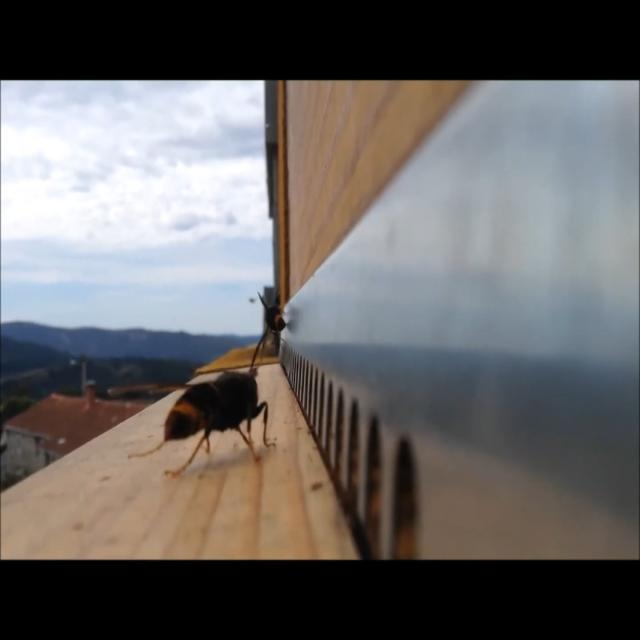Hornets: (105, 363, 276, 480), (250, 290, 288, 377)
